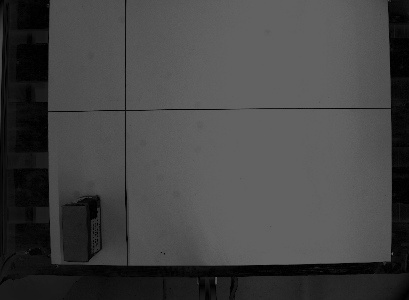b6: (58, 190, 103, 263)
